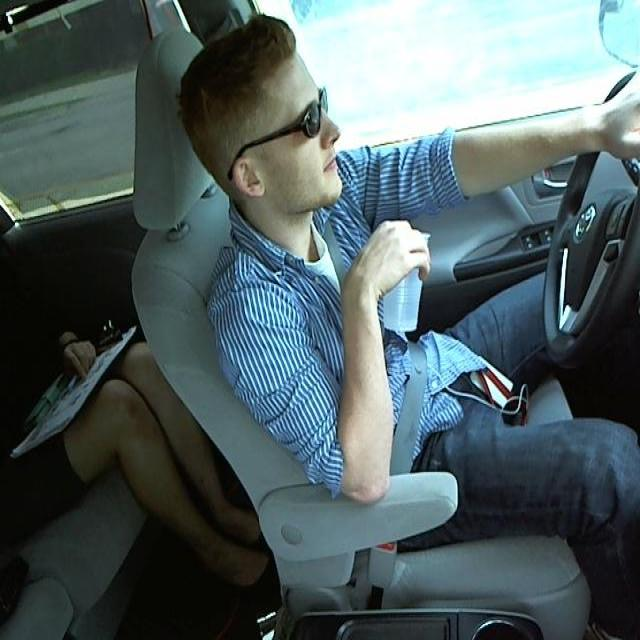Seatbelt: (376, 227, 422, 328)
